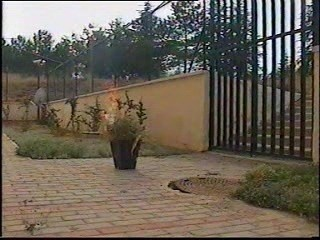fire: (96, 74, 130, 120)
